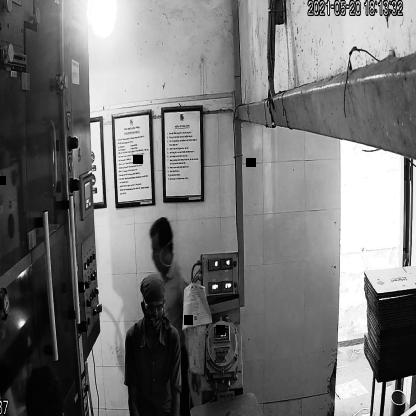goggles: (141, 290, 166, 318)
